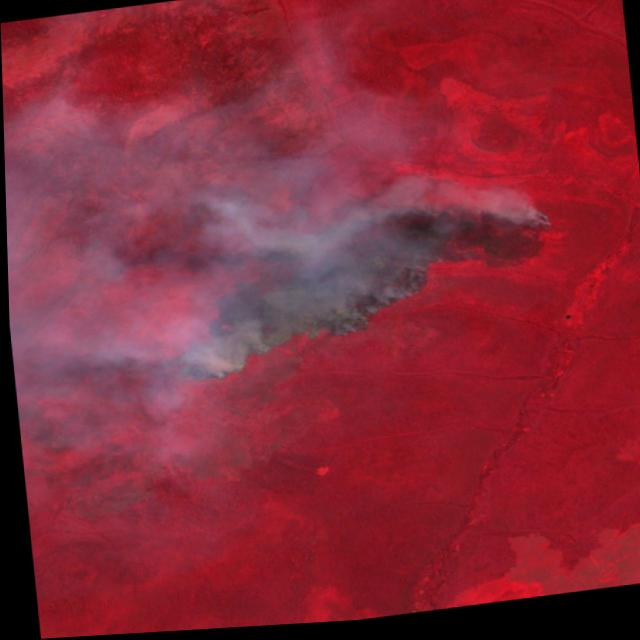fire: (137, 190, 571, 395)
